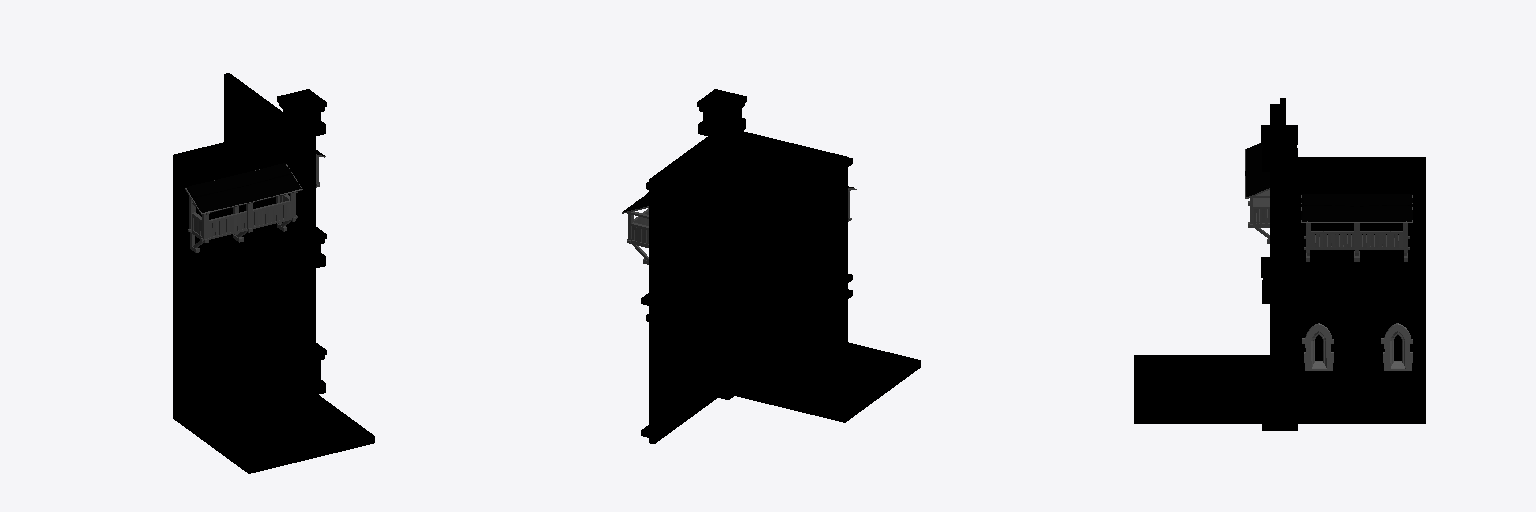
The picture shows the model from 3 angles: view 1: azimuth 30°, elevation 25°; view 2: azimuth 150°, elevation 25°; view 3: azimuth 270°, elevation 25°; orthographic projection.
Visible parts, largest first — view 1: object_17, object_13, Cube.049_Cube.075, object_1, object_2, object_12, object_4, object_9, object_26, object_3, object_10, object_14 (+5 smaller); view 2: object_13, object_17, object_12, object_16, object_2, Cube.049_Cube.075, object_8, object_3, object_9, object_1; view 3: object_16, object_12, Cube.049_Cube.075, object_1, object_4, object_2, Plane.007, object_9, object_26, object_11, object_30, object_3 (+4 smaller).
Boxes of the visible parts, <box> form: object_17: <box>173,262,293,420</box>; object_13: <box>173,128,293,288</box>; Cube.049_Cube.075: <box>185,150,325,252</box>; object_1: <box>176,396,374,473</box>; object_2: <box>179,410,279,472</box>; object_12: <box>224,73,282,141</box>; object_4: <box>276,389,374,449</box>; object_9: <box>294,137,315,236</box>; object_26: <box>294,269,315,352</box>; object_3: <box>262,431,343,465</box>; object_10: <box>176,251,293,286</box>; object_14: <box>176,135,297,170</box>; object_13: <box>728,130,847,290</box>; object_17: <box>728,264,847,422</box>; object_12: <box>649,133,721,311</box>; object_16: <box>649,266,721,443</box>; object_2: <box>848,353,920,413</box>; Cube.049_Cube.075: <box>622,186,856,264</box>; object_8: <box>697,89,746,114</box>; object_3: <box>848,342,889,366</box>; object_9: <box>722,140,727,236</box>; object_1: <box>848,362,920,420</box>; object_16: <box>1290,292,1425,423</box>; object_12: <box>1290,157,1425,291</box>; Cube.049_Cube.075: <box>1245,143,1412,261</box>; object_1: <box>1134,372,1269,423</box>; object_4: <box>1134,401,1265,423</box>; object_2: <box>1134,355,1269,371</box>; Plane.007: <box>1302,323,1412,370</box>; object_9: <box>1270,172,1289,268</box>; object_26: <box>1270,304,1289,384</box>; object_11: <box>1294,281,1425,290</box>; object_30: <box>1298,413,1425,422</box>; object_3: <box>1134,370,1169,400</box>.
Size of the model in its own units: 12.69 by 22.01 by 20.